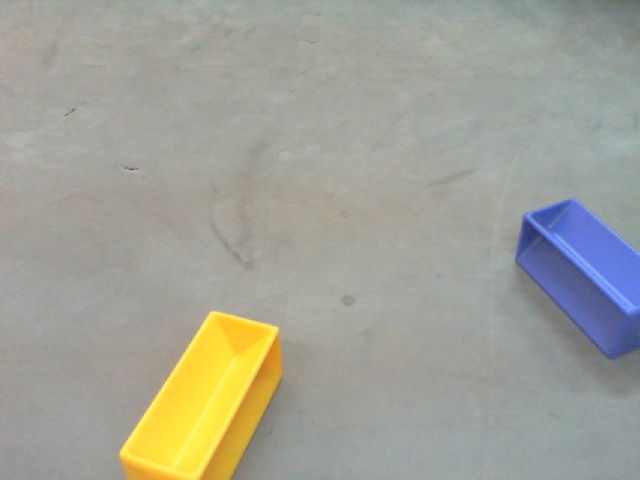BlueSample: (509, 189, 640, 362)
YellowSample: (114, 308, 284, 480)
